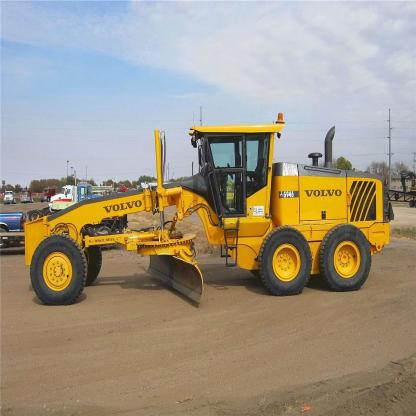bull_dozer/loader/grader: (21, 118, 392, 316)
